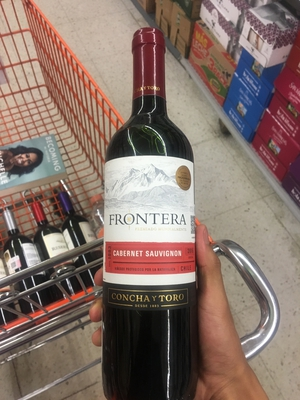frontera cabernet sauvignon: (100, 44, 214, 400)
